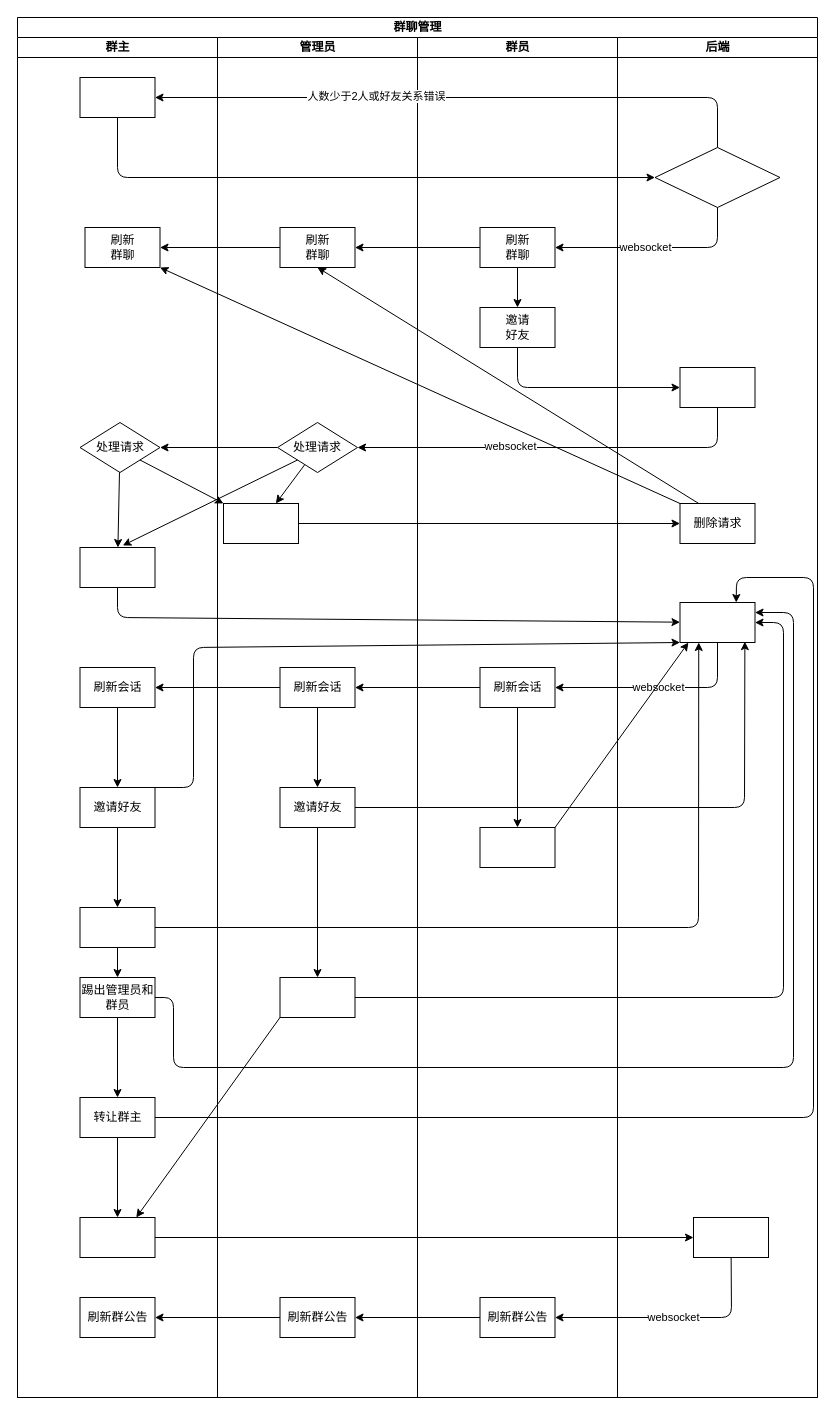
The diagram is 839 pixels wide and 1415 high, and some of its shapes have lost their labels. The shapes that lost their labels are listed below. From the top down, each one's centre as x and y in pixels, then its label:
pixel 117 97: 选择好友建立群聊
pixel 717 177: 判断人数与好友关系
pixel 717 387: 创建群聊请求
pixel 260 523: 拒绝
pixel 117 567: 同意
pixel 717 622: 处理群员身份
pixel 517 847: 退出群聊
pixel 117 927: 设置管理员
pixel 317 997: 踢出群员
pixel 117 1237: 编辑群公告
pixel 730 1237: 更新公告列表
